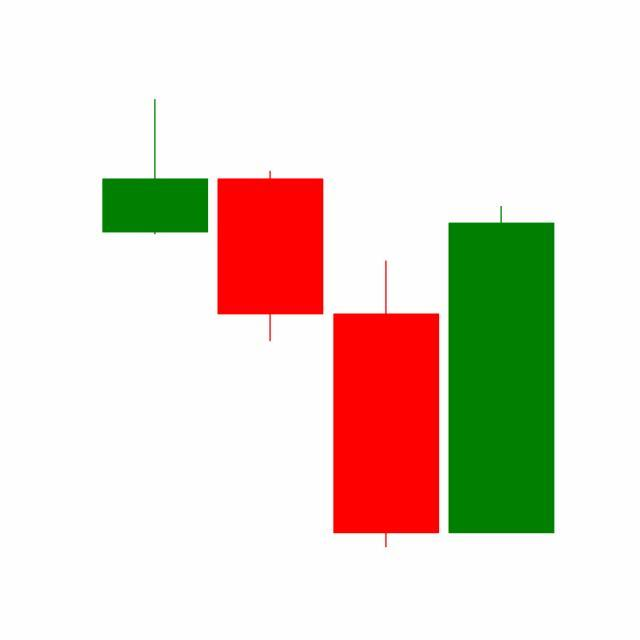Marubozu: (444, 204, 560, 538)
